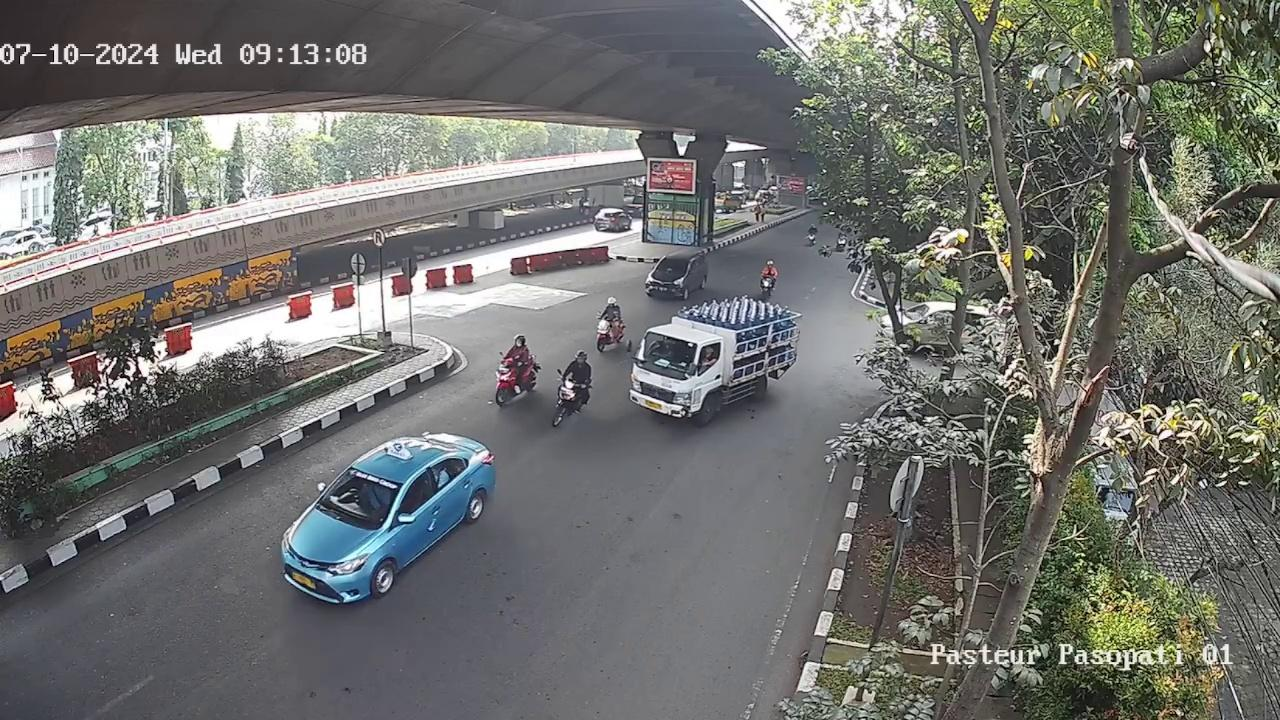pakai: (364, 481, 390, 510)
windshield: (319, 468, 398, 521), (639, 326, 701, 374)
